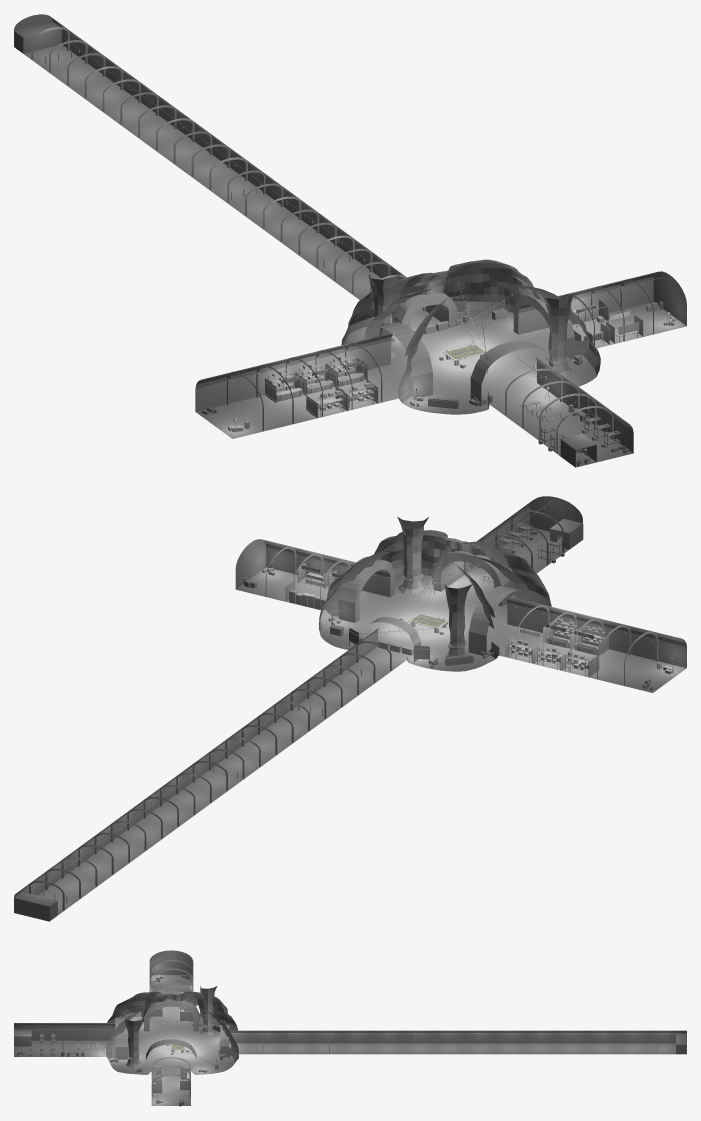
The model's file is hideout.glb.
3 renders of one model, top to bottom at view 1: azimuth 30°, elevation 25°; view 2: azimuth 150°, elevation 25°; view 3: azimuth 270°, elevation 25°, orthographic. The views are drawn at different scales.
Visible parts, largest first — view 1: hideout; view 2: hideout; view 3: hideout.
Boxes of the visible parts, bbox=[...] form: hideout: bbox=[14, 14, 686, 467]; hideout: bbox=[14, 496, 686, 921]; hideout: bbox=[14, 950, 686, 1106].
Size of the model in its own units: 71.25 by 12.02 by 154.
2 materials, 1 textured.
